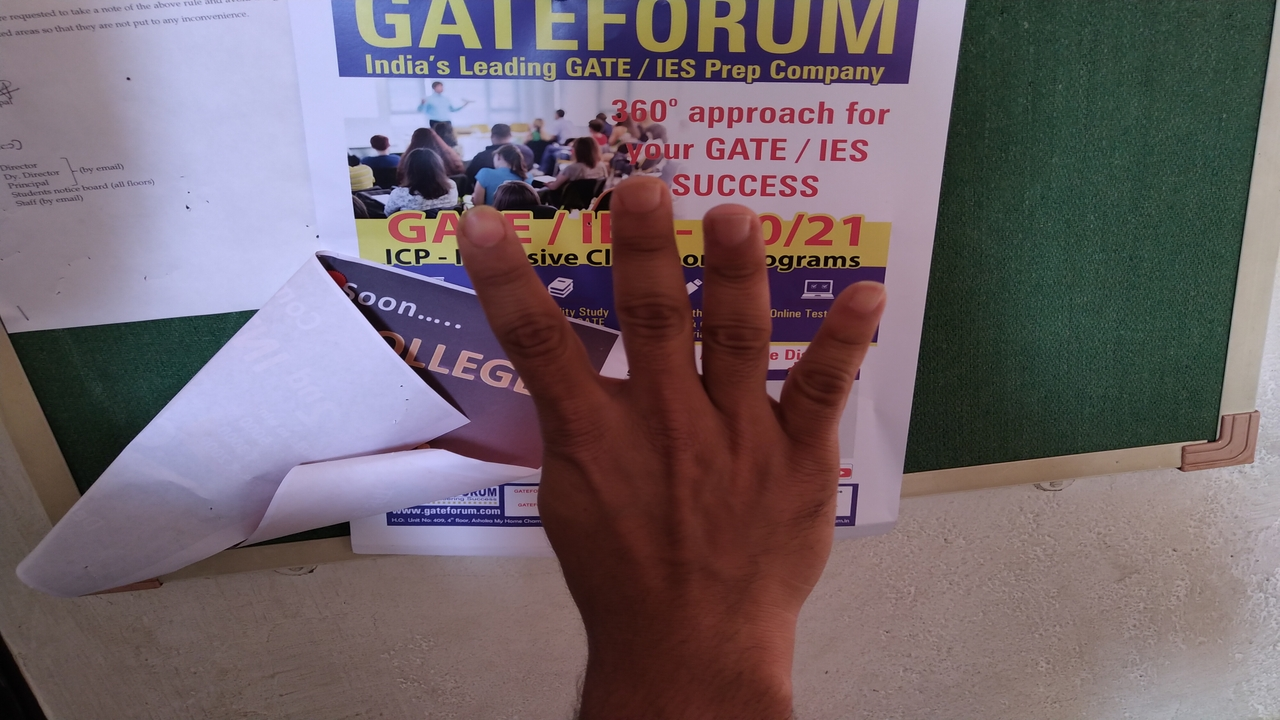fingertip: (702, 198, 768, 264), (602, 166, 672, 228), (448, 196, 512, 262), (828, 272, 892, 334)
